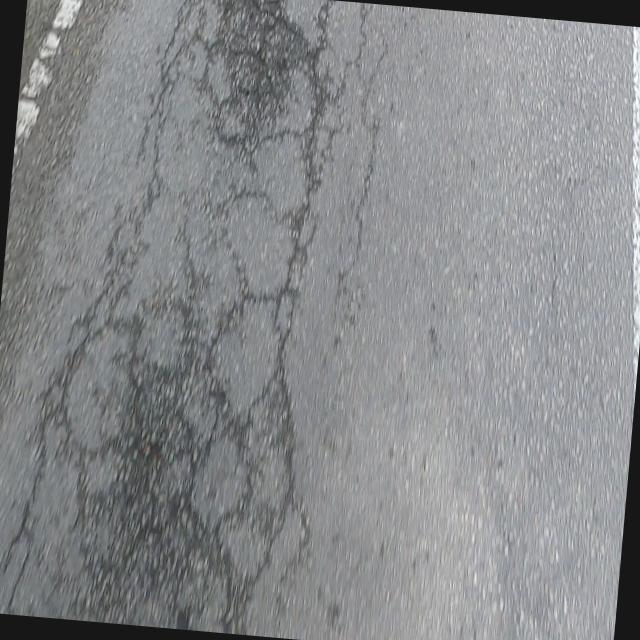Retak-Buaya: (3, 0, 344, 634)
